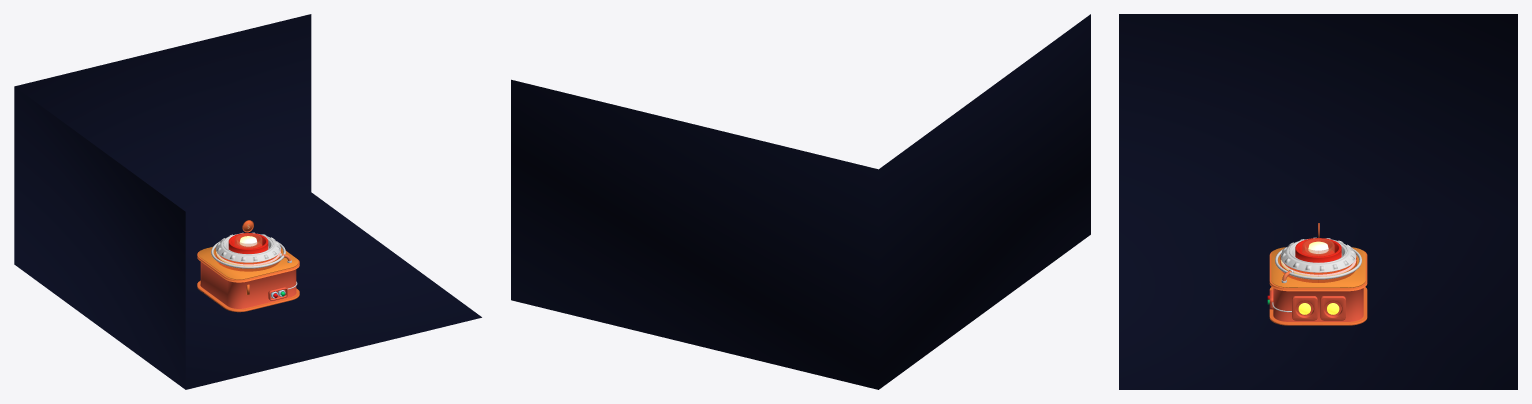
The model's file is gold-coin.glb.
The picture shows the model from 3 angles, left to right: view 1: azimuth 30°, elevation 25°; view 2: azimuth 150°, elevation 25°; view 3: azimuth 270°, elevation 25°; orthographic projection. The views are drawn at different scales.
Parts seen in each view (by area): view 1: 平面, 立方体.006, 立方体.007, 柱体.009, 柱体.011, 柱体.008; view 2: 平面; view 3: 平面, 立方体.006, 立方体.007, 柱体.009, 柱体.011, 柱体.008, 柱体.012, 立方体.004, 立方体.003, 贝塞尔圆.
Part boxes in pixels (x1,y1,x2,y2): 平面: (14,14,481,389); 立方体.006: (197,250,299,312); 立方体.007: (198,247,298,279); 柱体.009: (216,232,280,262); 柱体.011: (228,233,268,253); 柱体.008: (216,251,280,271); 平面: (511,14,1090,389); 平面: (1119,14,1517,389); 立方体.006: (1269,250,1367,325); 立方体.007: (1271,247,1365,287); 柱体.009: (1280,237,1356,272); 柱体.011: (1295,238,1341,262); 柱体.008: (1280,257,1356,282); 柱体.012: (1302,238,1334,256); 立方体.004: (1320,296,1345,320); 立方体.003: (1292,296,1317,320); 贝塞尔圆: (1275,246,1361,279).
Bounding box in the file's own units: 43.75 × 25.09 × 43.75.
